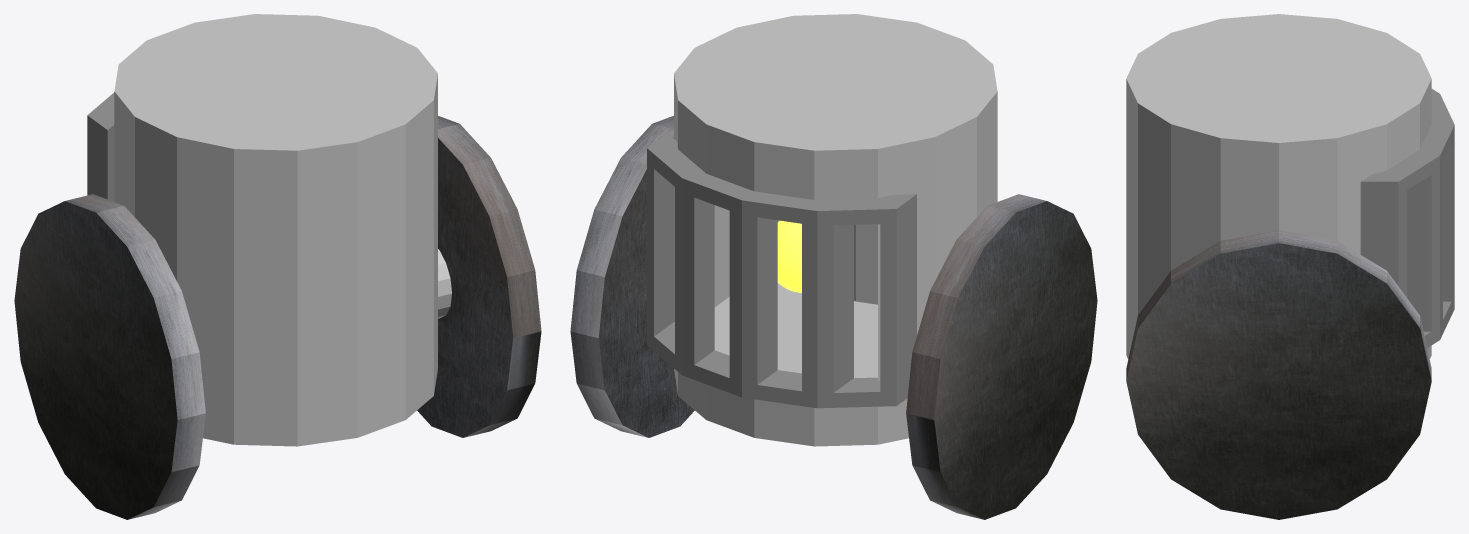
File: FurnaceFractured.fbx
The picture shows the model from 3 angles, left to right: view 1: azimuth 30°, elevation 25°; view 2: azimuth 150°, elevation 25°; view 3: azimuth 270°, elevation 25°; orthographic projection. The views are drawn at different scales.
Parts seen in each view (by area): view 1: Furnace Mesh, Furnace Mesh.003, Furnace Mesh.005, Furnace Mesh.001, Furnace Mesh.004; view 2: Furnace Mesh, Furnace Mesh.001, Furnace Mesh.003, Furnace Mesh.005, Furnace Mesh.006; view 3: Furnace Mesh.005, Furnace Mesh, Furnace Mesh.001.
Part boxes in pixels (box(x1,y1,x2,y2)): Furnace Mesh: box(114, 14, 437, 446); Furnace Mesh.003: box(14, 194, 205, 519); Furnace Mesh.005: box(417, 116, 541, 437); Furnace Mesh.001: box(87, 92, 114, 201); Furnace Mesh.004: box(438, 249, 451, 318); Furnace Mesh: box(674, 14, 997, 446); Furnace Mesh.001: box(647, 133, 916, 408); Furnace Mesh.003: box(906, 194, 1097, 519); Furnace Mesh.005: box(570, 116, 694, 437); Furnace Mesh.006: box(777, 220, 801, 293); Furnace Mesh.005: box(1126, 230, 1431, 519); Furnace Mesh: box(1126, 14, 1431, 358); Furnace Mesh.001: box(1360, 89, 1454, 347).
Size of the model in its own units: 5.15 by 4.3 by 5.17.
